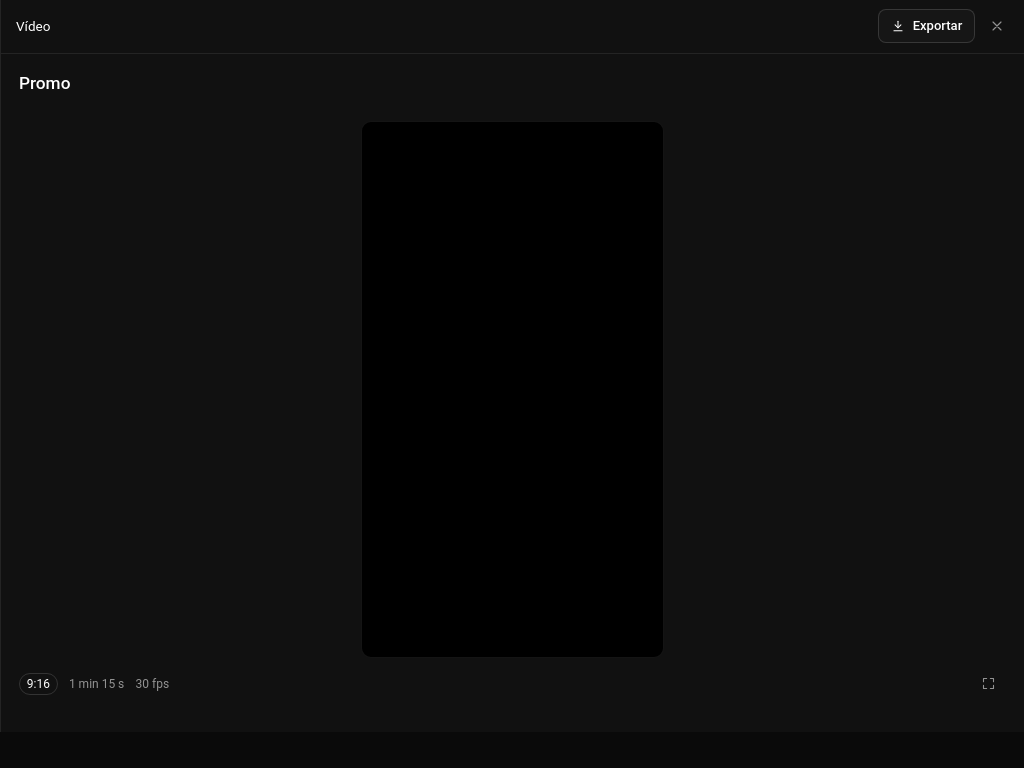
Test: VideoPlayer › stays full screen when an assistant edit reloads the preview
Click the button named "Pantalla completa": [988, 684] box [970, 666, 1006, 702]
Wait 410 ms
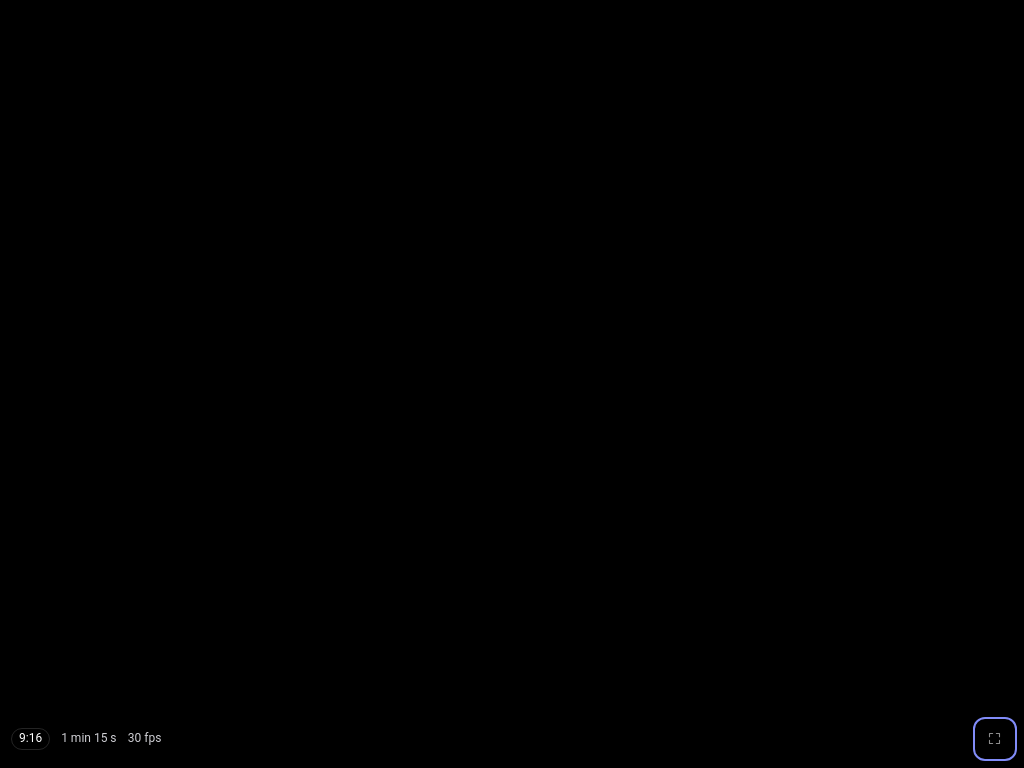
Expected: the button named "Salir de pantalla completa" is shown, [977, 721, 1013, 757]
